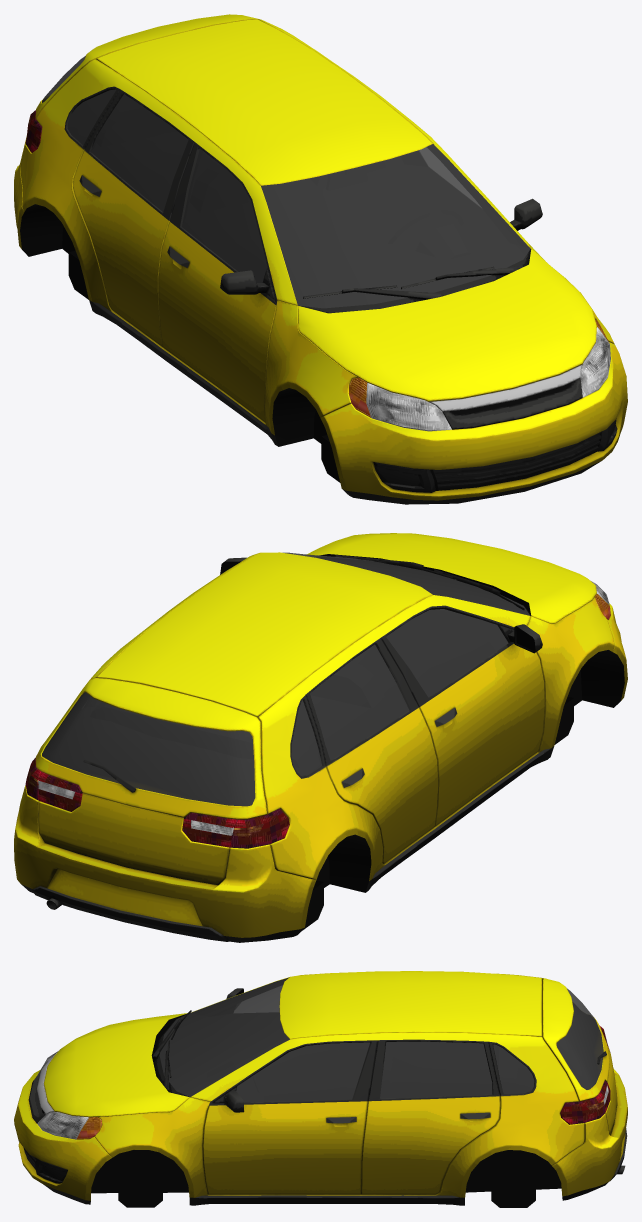
Rendered from buy_九.fbx.
The picture shows the model from 3 angles, top to bottom: view 1: azimuth 30°, elevation 25°; view 2: azimuth 150°, elevation 25°; view 3: azimuth 270°, elevation 25°; orthographic projection. The views are drawn at different scales.
Visible parts, largest first — view 1: Hatchback Body; view 2: Hatchback Body; view 3: Hatchback Body.
Part boxes in pixels (x1,y1,x2,y2): Hatchback Body: (14,14,627,504); Hatchback Body: (14,533,627,942); Hatchback Body: (14,971,627,1207).
Bounding box in the file's own units: 196 × 137 × 445.
